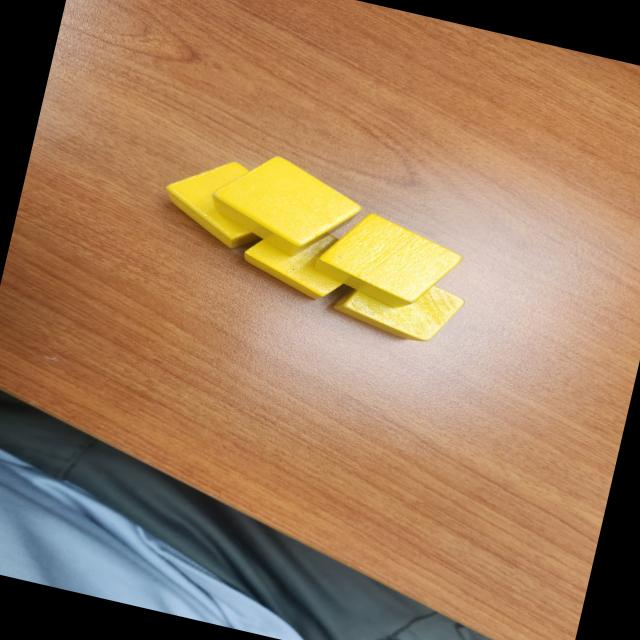yellow: (208, 144, 370, 270), (310, 202, 470, 320), (326, 256, 468, 352), (154, 148, 277, 255), (237, 210, 361, 306)
